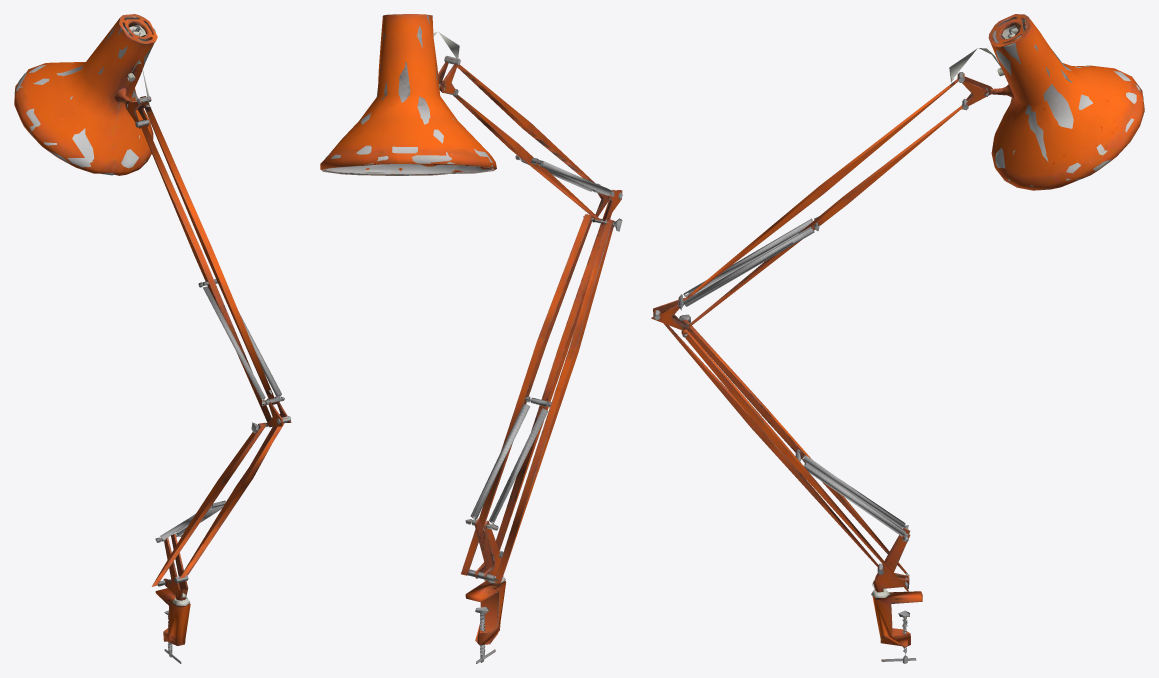
File: desk_lamp_arm_01.glb
The picture shows the model from 3 angles, left to right: view 1: azimuth 30°, elevation 25°; view 2: azimuth 150°, elevation 25°; view 3: azimuth 270°, elevation 25°; orthographic projection. The views are drawn at different scales.
Parts seen in each view (by area): view 1: desk_lamp_arm_01; view 2: desk_lamp_arm_01; view 3: desk_lamp_arm_01.
Part boxes in pixels (left/top/right/bottom): desk_lamp_arm_01: left=14, top=14, right=291, bottom=663; desk_lamp_arm_01: left=320, top=14, right=622, bottom=663; desk_lamp_arm_01: left=651, top=14, right=1144, bottom=663.
Size of the model in its own units: 0.2017 by 0.8926 by 0.6132.
Materials: 2 (2 with a texture image).
